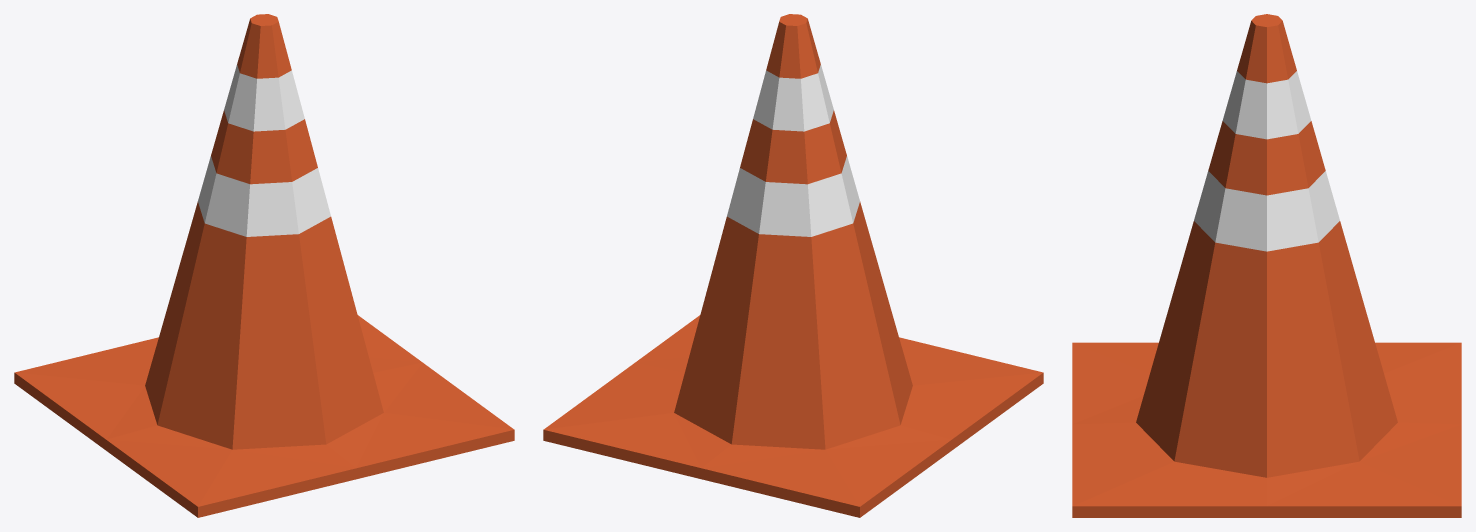
The picture shows the model from 3 angles, left to right: view 1: azimuth 30°, elevation 25°; view 2: azimuth 150°, elevation 25°; view 3: azimuth 270°, elevation 25°; orthographic projection. The views are drawn at different scales.
Visible parts, largest first — view 1: Cylinder; view 2: Cylinder; view 3: Cylinder.
Part boxes in pixels (left/top/right/bottom): Cylinder: left=14, top=14, right=514, bottom=517; Cylinder: left=543, top=14, right=1043, bottom=517; Cylinder: left=1072, top=14, right=1461, bottom=517.
Size of the model in its own units: 2.96 by 3.5 by 2.97.
Materials: 1 (1 with a texture image).
